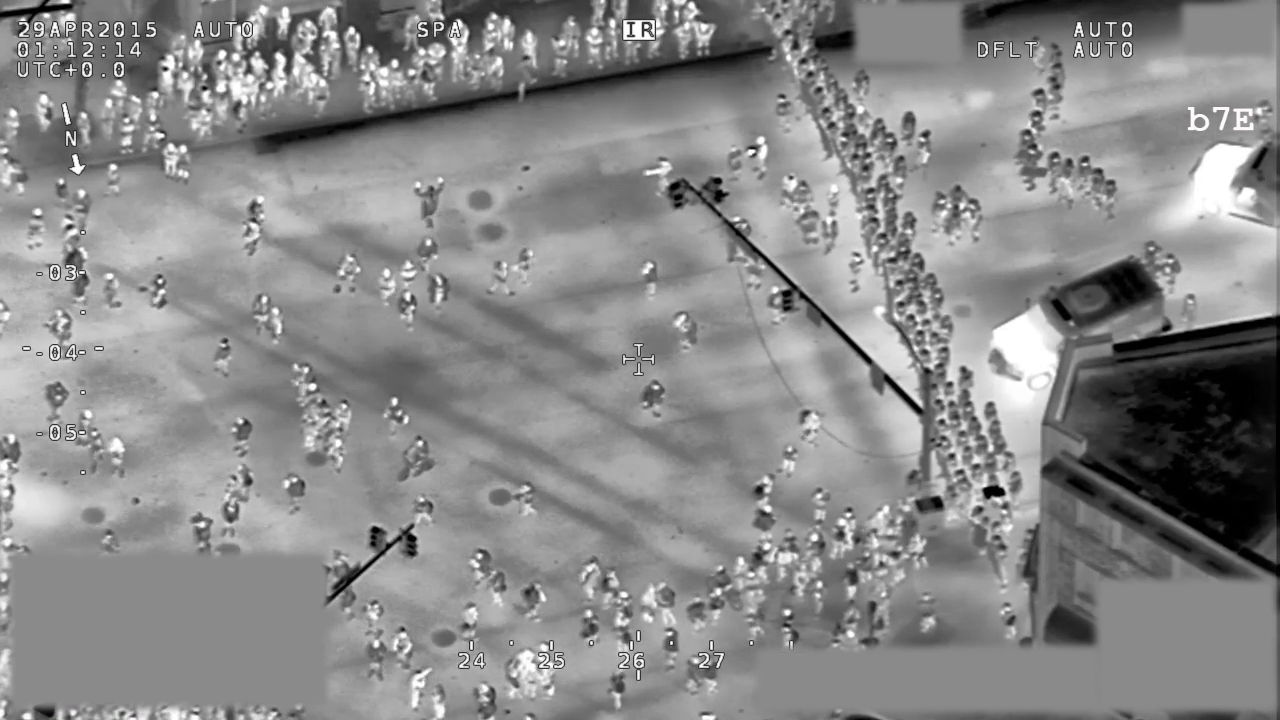vehicle: (987, 253, 1172, 396), (1184, 137, 1280, 235)
